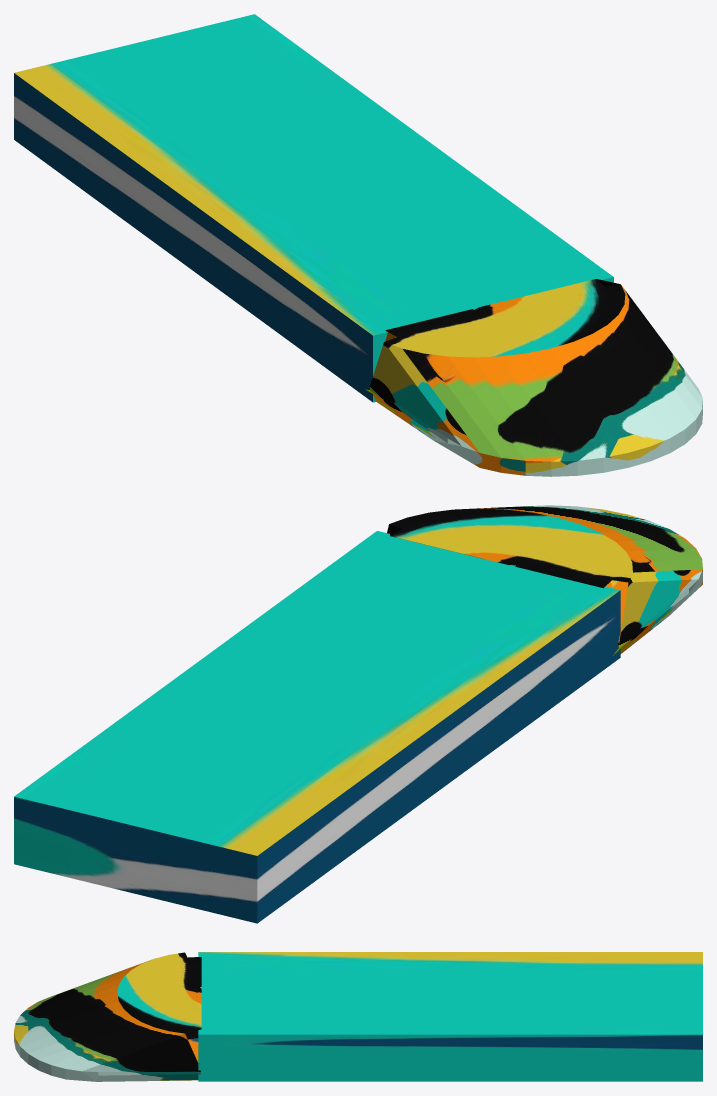
File: MazePlatform.fbx
3 renders of one model, top to bottom at view 1: azimuth 30°, elevation 25°; view 2: azimuth 150°, elevation 25°; view 3: azimuth 270°, elevation 25°, orthographic. The views are drawn at different scales.
Visible parts, largest first — view 1: Cube, Cylinder; view 2: Cube, Cylinder; view 3: Cube, Cylinder.
Part boxes in pixels (box(x1,y1,x2,y2)): Cube: box(14, 14, 613, 402); Cylinder: box(365, 279, 702, 476); Cube: box(14, 531, 620, 923); Cylinder: box(387, 505, 702, 655); Cube: box(198, 952, 702, 1081); Cylinder: box(14, 952, 201, 1081).
Bounding box in the file's own units: 273 × 71.3 × 944.
